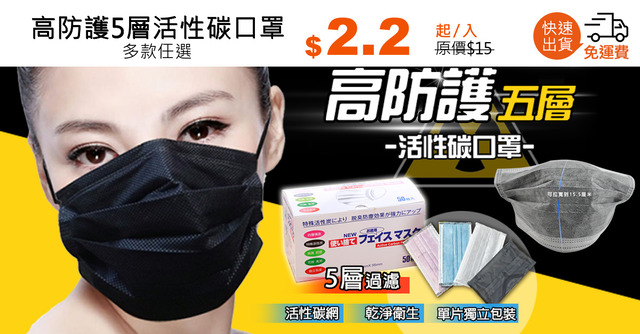mask: (64, 175, 261, 303)
